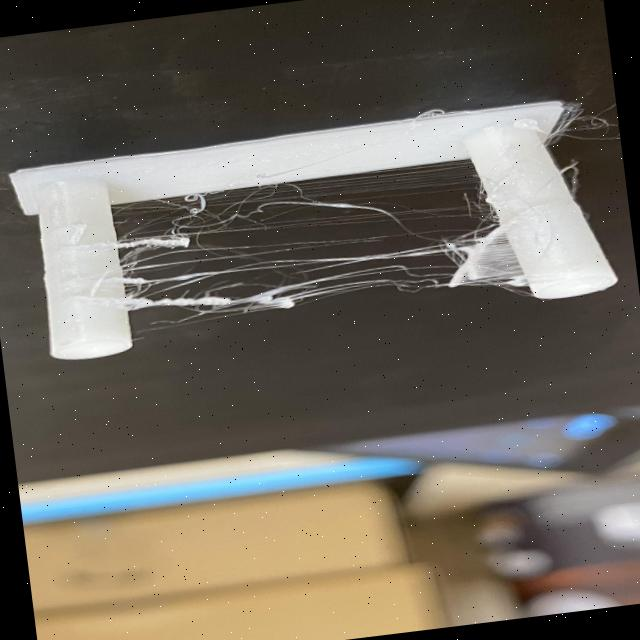stringing: (114, 179, 513, 317)
